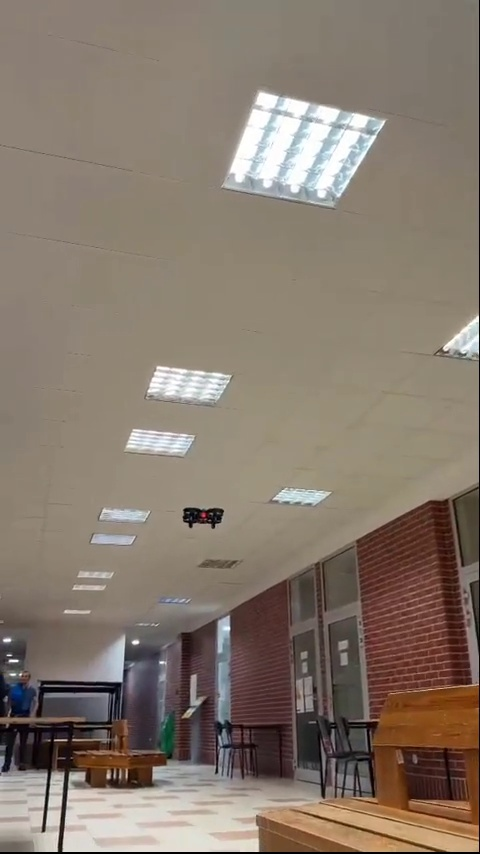drone: (178, 503, 223, 530)
no vest: (15, 670, 42, 719)
